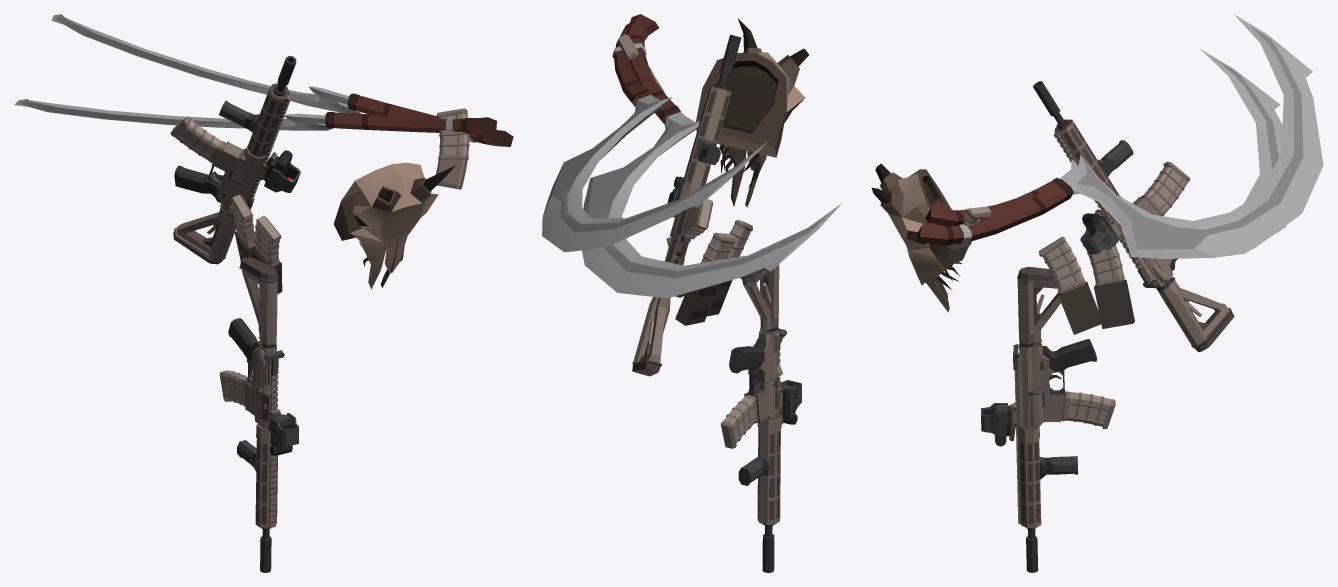
File: ReaperZombie.glb
3 views of the same model, side by side, from view 1: azimuth 30°, elevation 25°; view 2: azimuth 150°, elevation 25°; view 3: azimuth 270°, elevation 25° (orthographic). The views are drawn at different scales.
Visible parts, largest first — view 1: BackAr15, ReaperAr15, ReaperMaskGoat, HandScythe, ReaperScythe, ReaperMagPouch, Ar15Mag (×2), Ar15MagHand; view 2: HandScythe, ReaperAr15, ReaperScythe, ReaperMaskGoat, BackAr15, ReaperMagPouch, Ar15Mag (×2), Ar15MagHand; view 3: ReaperScythe, ReaperAr15, BackAr15, ReaperMagPouch, ReaperMaskGoat, HandScythe, Ar15Mag (×2), Ar15MagHand.
Boxes of the visible parts, <box> form: BackAr15: <box>173,56,300,264</box>; ReaperAr15: <box>228,257,298,572</box>; ReaperMaskGoat: <box>333,162,455,289</box>; HandScythe: <box>14,99,496,133</box>; ReaperScythe: <box>51,14,513,146</box>; ReaperMagPouch: <box>231,194,282,294</box>; Ar15Mag (×2): <box>170,116,247,406</box>; Ar15MagHand: <box>436,108,469,189</box>; HandScythe: <box>582,14,841,298</box>; ReaperAr15: <box>729,248,801,572</box>; ReaperScythe: <box>542,23,769,252</box>; ReaperMaskGoat: <box>696,18,809,207</box>; BackAr15: <box>632,34,741,376</box>; ReaperMagPouch: <box>675,220,752,325</box>; Ar15Mag (×2): <box>682,199,758,448</box>; Ar15MagHand: <box>618,34,665,93</box>; ReaperScythe: <box>917,14,1323,258</box>; ReaperAr15: <box>980,266,1096,572</box>; BackAr15: <box>1033,81,1234,352</box>; ReaperMagPouch: <box>1038,236,1134,334</box>; ReaperMaskGoat: <box>871,163,962,312</box>; HandScythe: <box>925,49,1286,258</box>; Ar15Mag (×2): <box>1061,161,1189,429</box>; Ar15MagHand: <box>938,206,991,267</box>.
Size of what is drawn, in the model's own units: 2.08 by 2.92 by 2.36.
1 material, 1 textured.
